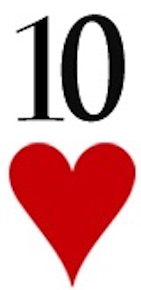TenOfHearts: (5, 4, 135, 288)
